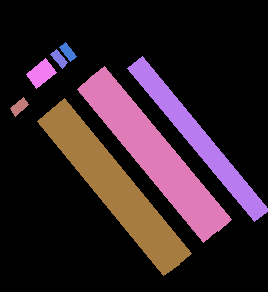parkingspot: (37, 109, 179, 275), (50, 98, 191, 264), (90, 66, 231, 231), (127, 56, 268, 221), (77, 77, 217, 242), (26, 58, 56, 88), (10, 97, 28, 116), (50, 49, 67, 68), (59, 42, 76, 61)
